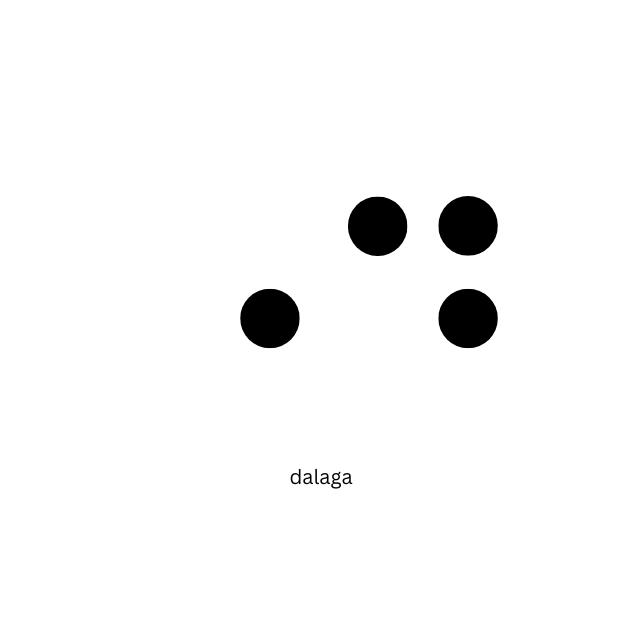dot_5: (150, 195, 301, 444)
two_cell_alphabet_dalaga: (347, 195, 499, 444)
